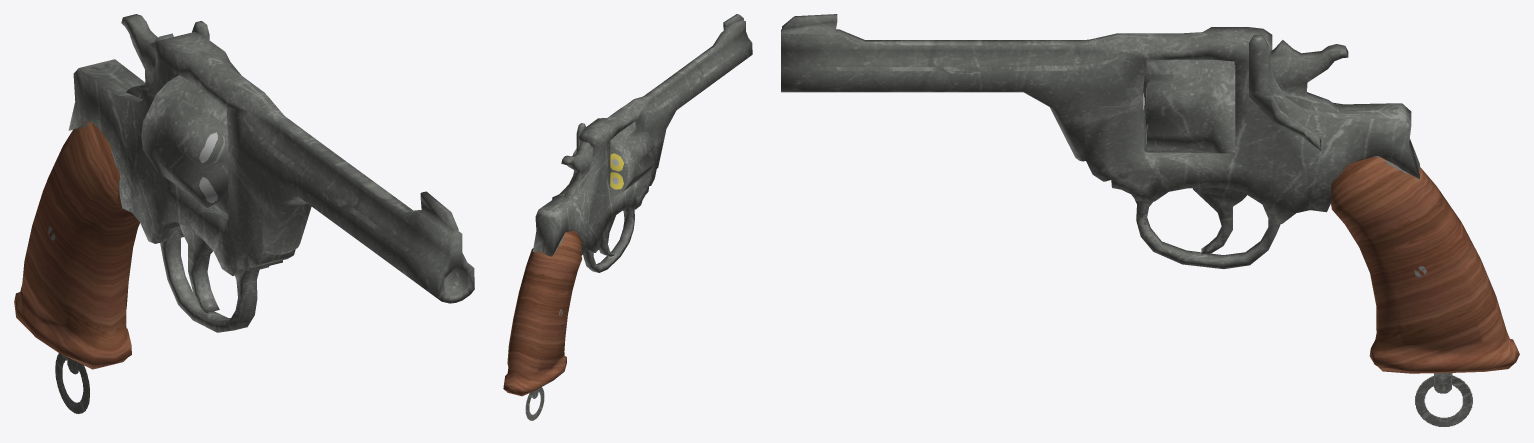
The model's file is revolver.fbx.
3 renders of one model, left to right at view 1: azimuth 30°, elevation 25°; view 2: azimuth 150°, elevation 25°; view 3: azimuth 270°, elevation 25°, orthographic. The views are drawn at different scales.
Visible parts, largest first — view 1: LOPOLY_REVOLVER; view 2: LOPOLY_REVOLVER; view 3: LOPOLY_REVOLVER.
Part boxes in pixels (bbox=[...]): LOPOLY_REVOLVER: bbox=[14, 14, 474, 413]; LOPOLY_REVOLVER: bbox=[503, 14, 752, 420]; LOPOLY_REVOLVER: bbox=[781, 14, 1519, 426].
Bounding box in the file's own units: 0.8394 × 3.67 × 5.95.
